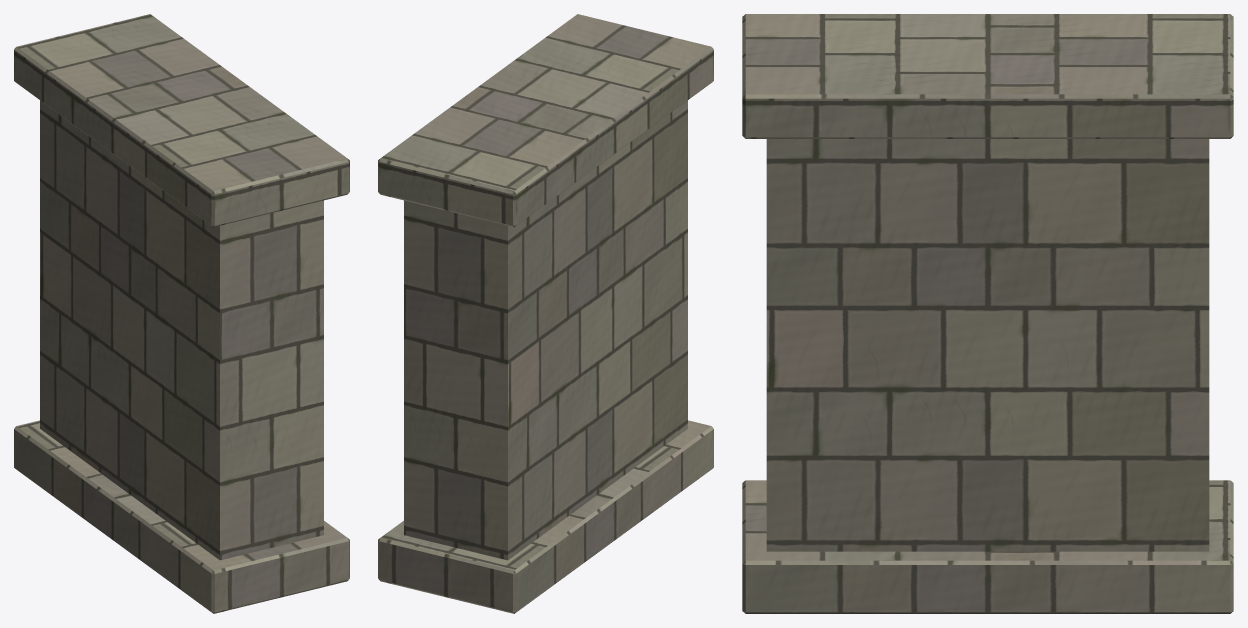
File: Furn_SkyCorridor_Pier.fbx
The picture shows the model from 3 angles, left to right: view 1: azimuth 30°, elevation 25°; view 2: azimuth 150°, elevation 25°; view 3: azimuth 270°, elevation 25°; orthographic projection. The views are drawn at different scales.
Parts seen in each view (by area): view 1: Furn_SkyCorridor_Pier_Mesh; view 2: Furn_SkyCorridor_Pier_Mesh; view 3: Furn_SkyCorridor_Pier_Mesh.
Boxes of the visible parts, x1=… form: Furn_SkyCorridor_Pier_Mesh: x1=14, y1=14, x2=349, y2=613; Furn_SkyCorridor_Pier_Mesh: x1=378, y1=14, x2=713, y2=613; Furn_SkyCorridor_Pier_Mesh: x1=742, y1=14, x2=1233, y2=613.
Bounding box in the file's own units: 1.2 × 3.5 × 3.
